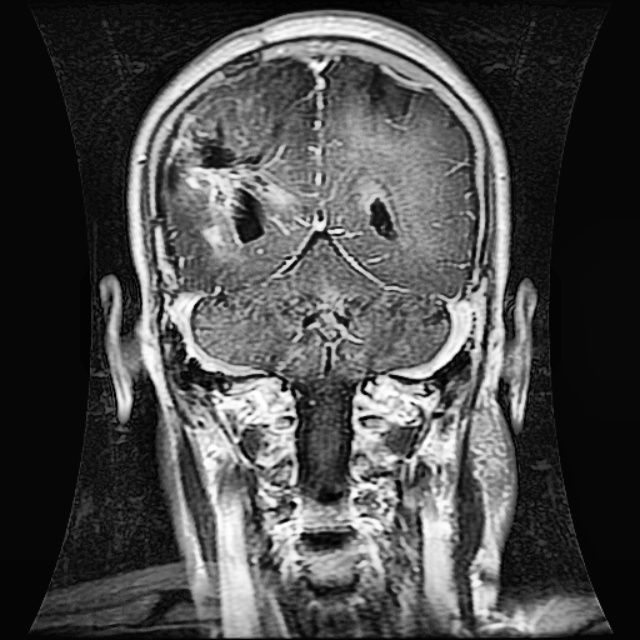Meningioma: (165, 90, 289, 244)
